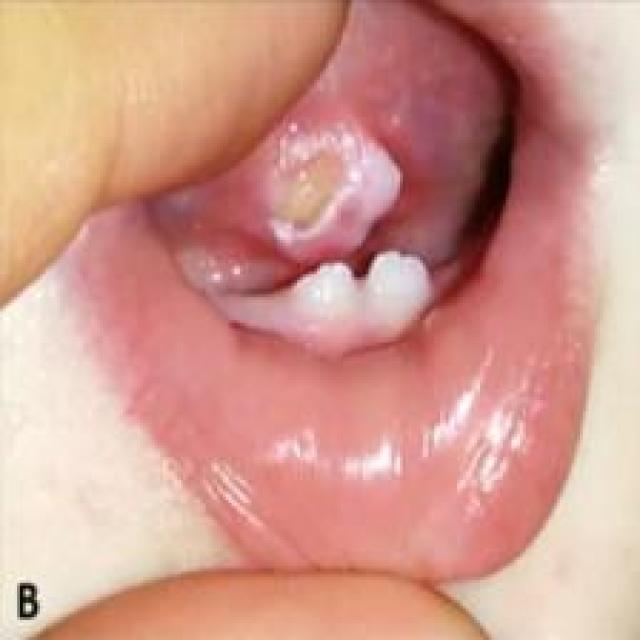processing_area: (59, 0, 589, 569)
ulcer-detection: (235, 106, 415, 273)
